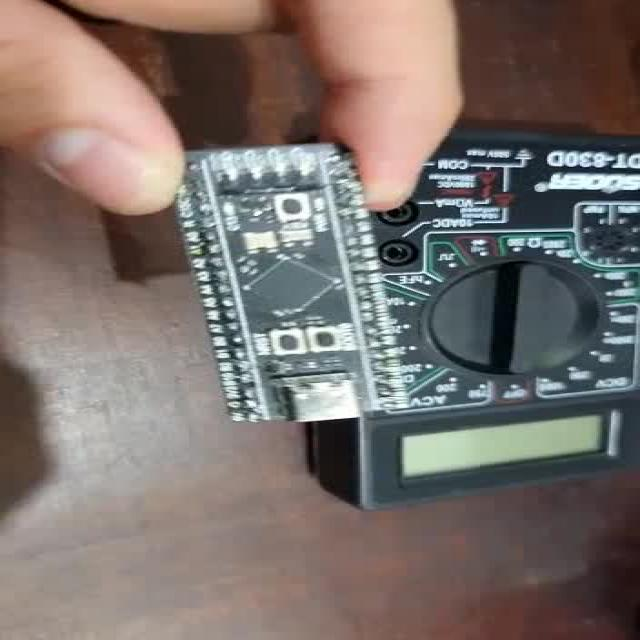multimeter: (392, 124, 640, 490)
stm32: (176, 138, 404, 416)
